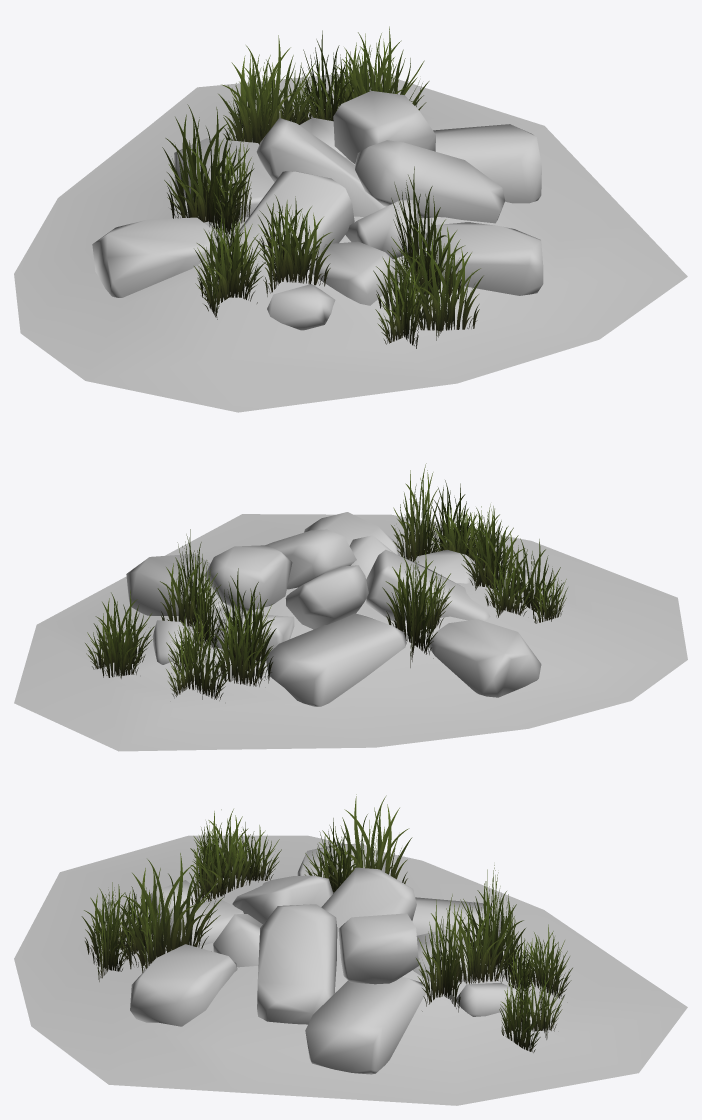
File: Soil_Bricks_Grass_06.fbx
The picture shows the model from 3 angles, top to bottom: view 1: azimuth 30°, elevation 25°; view 2: azimuth 150°, elevation 25°; view 3: azimuth 270°, elevation 25°; orthographic projection. The views are drawn at different scales.
Parts seen in each view (by area): view 1: Soil_Bricks_Grass_06_LOD0; view 2: Soil_Bricks_Grass_06_LOD0; view 3: Soil_Bricks_Grass_06_LOD0.
Part boxes in pixels (<box>): Soil_Bricks_Grass_06_LOD0: <box>14,26,687,412</box>; Soil_Bricks_Grass_06_LOD0: <box>14,463,687,751</box>; Soil_Bricks_Grass_06_LOD0: <box>14,794,687,1105</box>.
Size of what is drawn, in the model's own units: 7.52 by 1.94 by 7.92.
